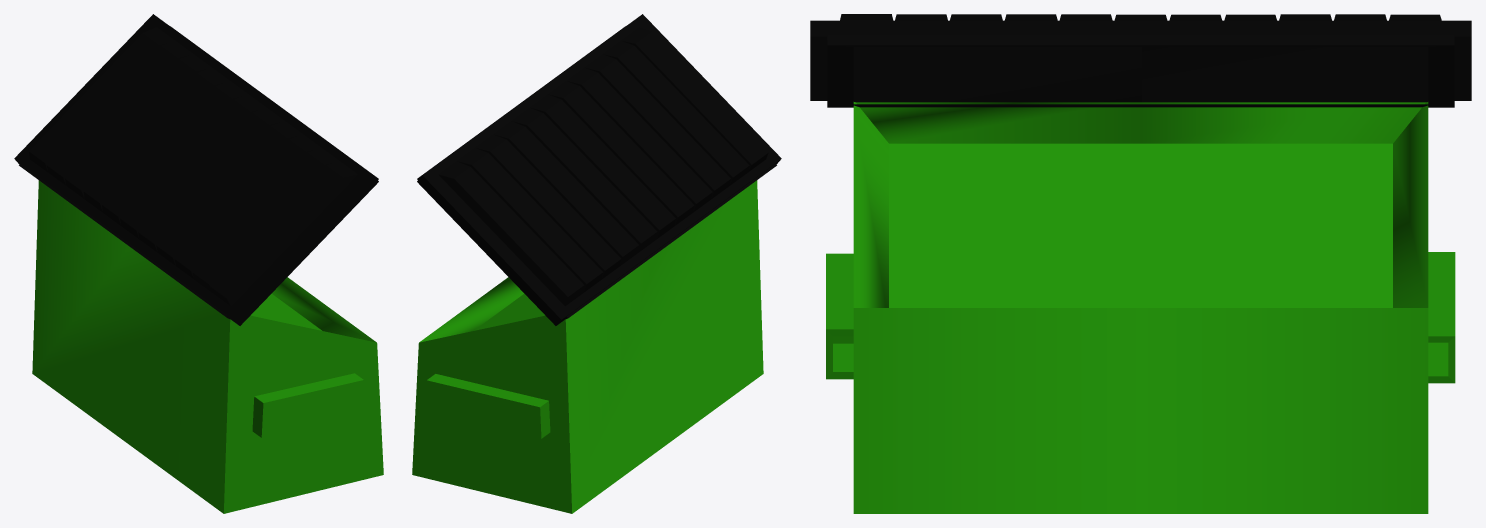
Rendered from DumpsterOpen_KW 1.fbx.
3 renders of one model, left to right at view 1: azimuth 30°, elevation 25°; view 2: azimuth 150°, elevation 25°; view 3: azimuth 270°, elevation 25°, orthographic. The views are drawn at different scales.
Parts seen in each view (by area): view 1: DumpsterLid_KW; view 2: DumpsterLid_KW; view 3: DumpsterLid_KW.
Part boxes in pixels (left/top/right/bottom): DumpsterLid_KW: left=14, top=14, right=383, bottom=513; DumpsterLid_KW: left=412, top=14, right=781, bottom=513; DumpsterLid_KW: left=810, top=14, right=1471, bottom=513.
Bounding box in the file's own units: 162 × 297 × 375.
